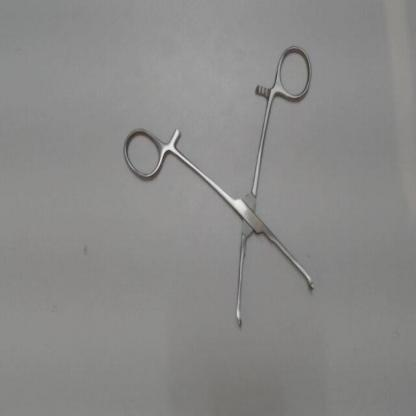Allis Tissue Forceps: (114, 38, 330, 344)
